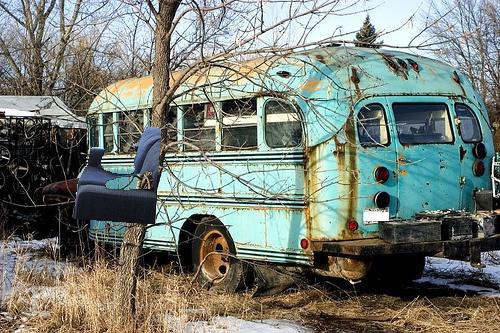tampered: (74, 128, 161, 224)
